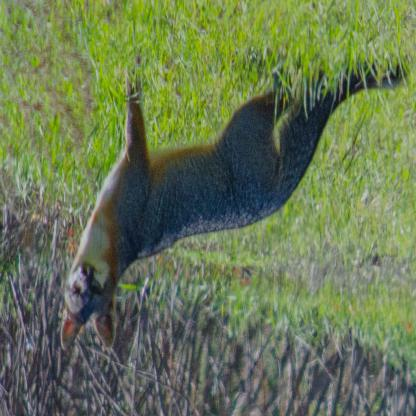zorro: (48, 52, 412, 352)
